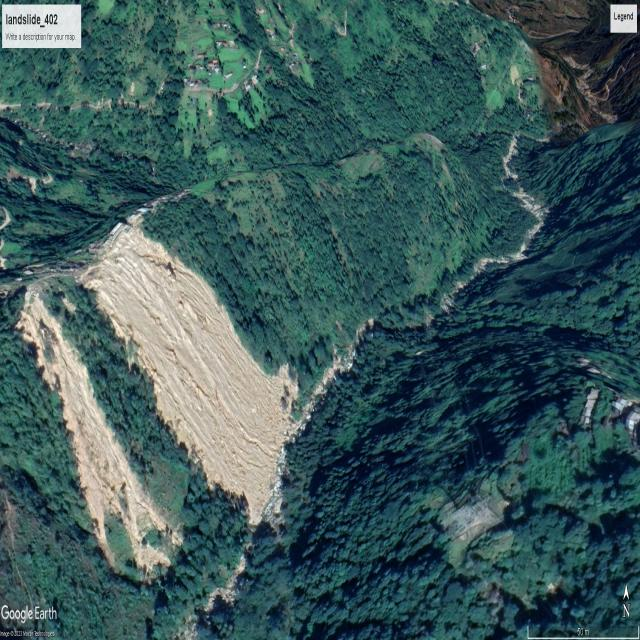Landslide: (90, 195, 268, 530), (19, 283, 153, 582)
